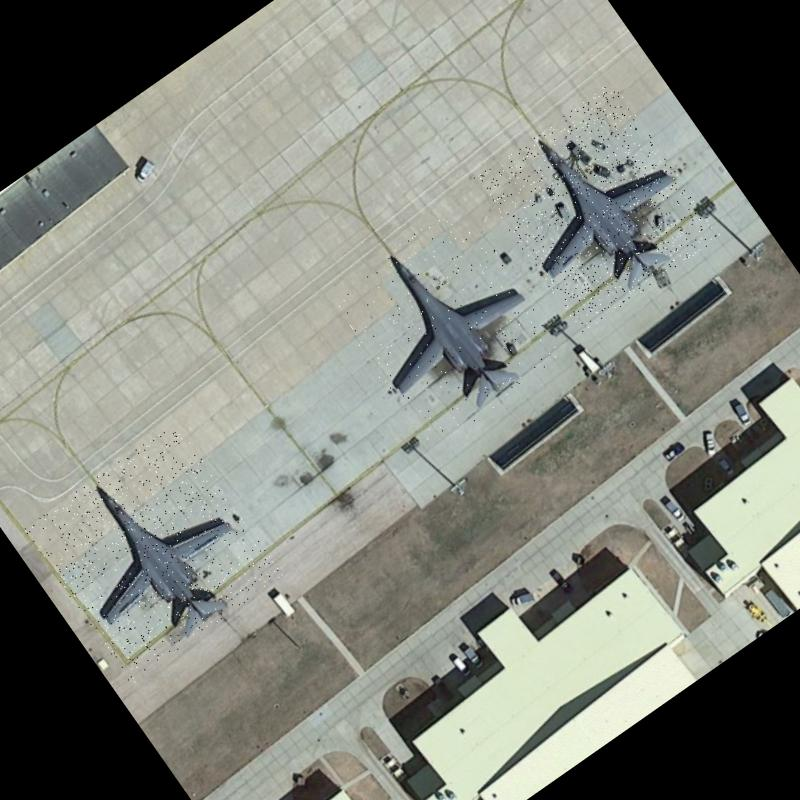A10: (23, 422, 284, 682), (473, 80, 721, 334), (322, 200, 568, 451)
